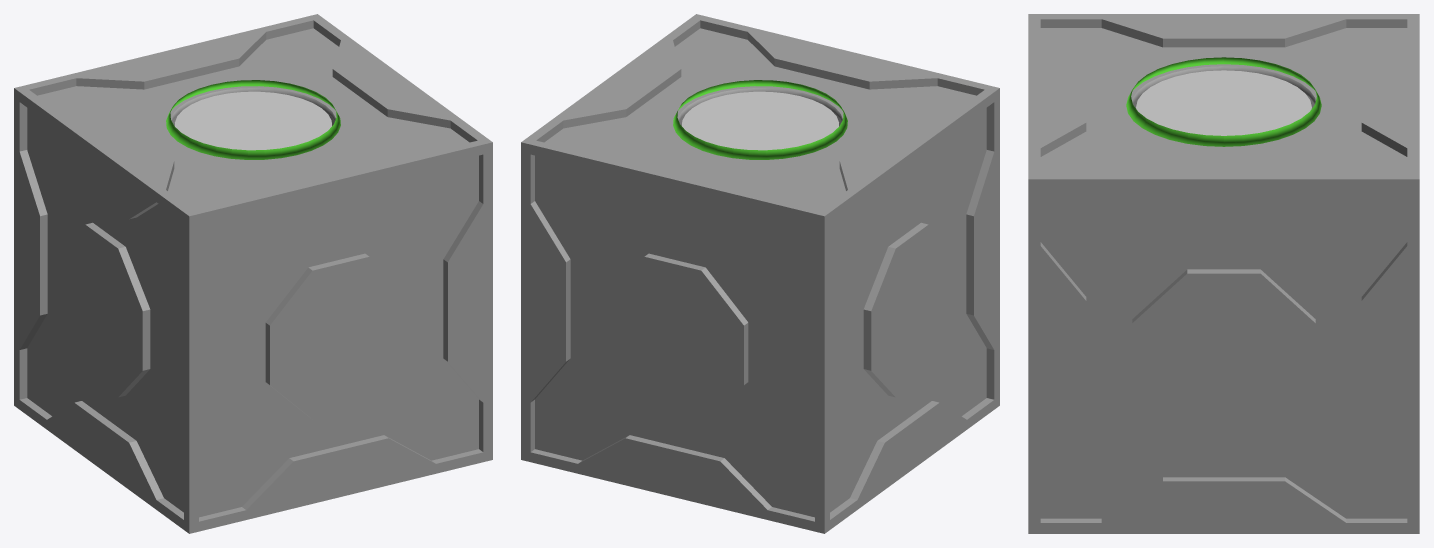
Rendered from MeeseeksBox.obj.
3 views of the same model, side by side, from view 1: azimuth 30°, elevation 25°; view 2: azimuth 150°, elevation 25°; view 3: azimuth 270°, elevation 25° (orthographic). The views are drawn at different scales.
Parts seen in each view (by area): view 1: Meeseeks_Box_Cube, Circle_Circle.001; view 2: Meeseeks_Box_Cube, Circle_Circle.001; view 3: Meeseeks_Box_Cube, Circle_Circle.001.
Part boxes in pixels (x1,y1,x2,y2): Meeseeks_Box_Cube: [14, 14, 492, 533]; Circle_Circle.001: [175, 91, 331, 150]; Meeseeks_Box_Cube: [521, 14, 999, 533]; Circle_Circle.001: [682, 91, 838, 150]; Meeseeks_Box_Cube: [1028, 14, 1419, 533]; Circle_Circle.001: [1136, 70, 1311, 135].
Bounding box in the file's own units: 2 × 2 × 2.
